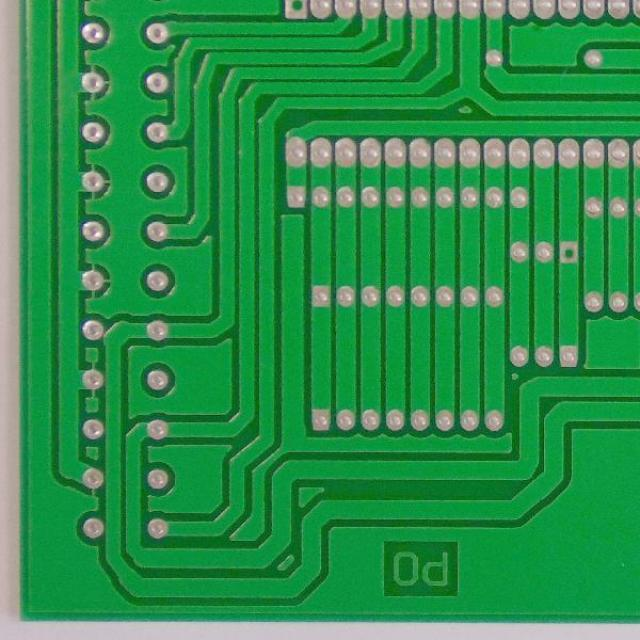Missing_Hole: (557, 239, 581, 266), (281, 0, 310, 21)
